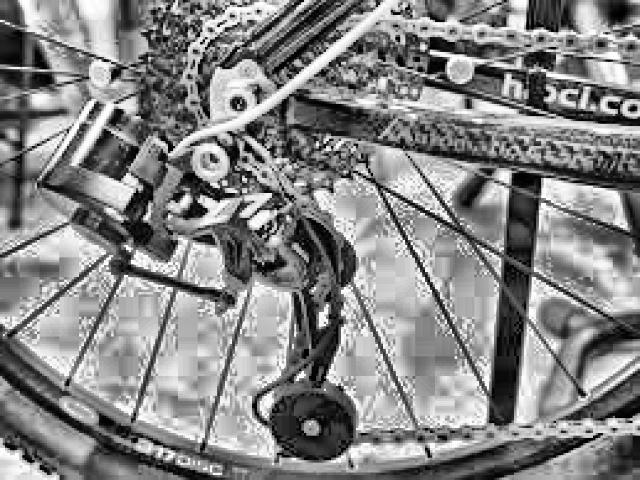rear_derailleur: (32, 107, 362, 461)
